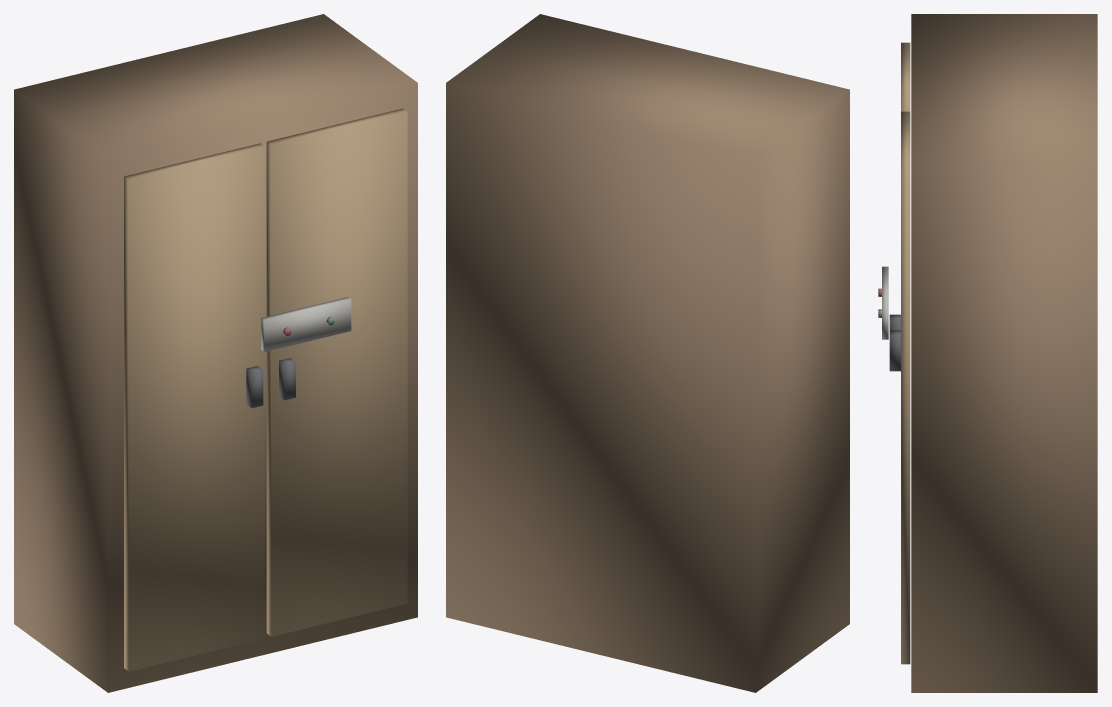
The model's file is cupboard__tall.glb.
3 renders of one model, left to right at view 1: azimuth 30°, elevation 25°; view 2: azimuth 150°, elevation 25°; view 3: azimuth 270°, elevation 25°, orthographic.
Visible parts, largest first — view 1: world; view 2: world; view 3: world.
Part boxes in pixels (bbox=[...]): world: bbox=[14, 14, 417, 692]; world: bbox=[446, 14, 849, 692]; world: bbox=[878, 14, 1097, 692].
Size of the model in its own units: 0.95 by 1.57 by 0.5885.
